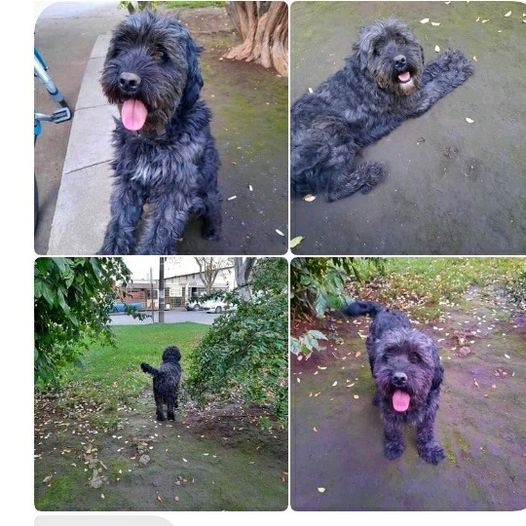dog: (294, 11, 474, 224), (81, 5, 232, 248), (334, 295, 463, 472), (133, 336, 190, 425)
